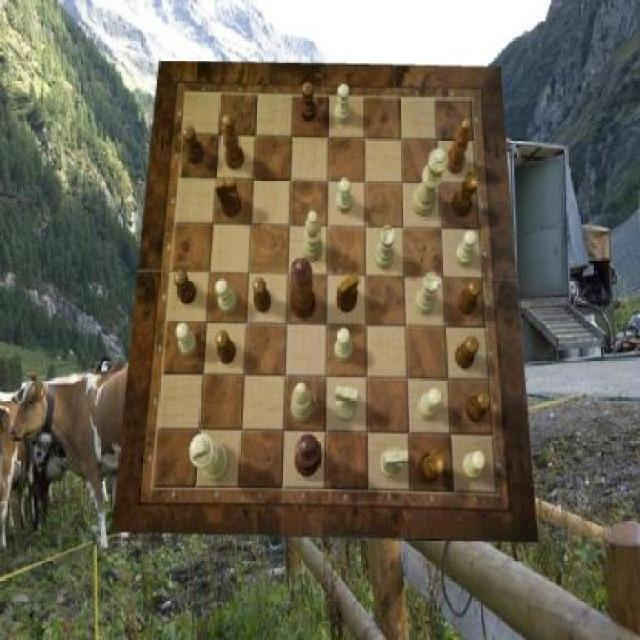bishop: (446, 119, 471, 174), (223, 115, 246, 170)
black-bishop: (296, 434, 322, 476)
black-king: (214, 177, 241, 218), (337, 274, 360, 314)
black-knight: (458, 280, 482, 316), (183, 126, 204, 165), (456, 337, 480, 371), (174, 269, 197, 304), (466, 391, 491, 422), (217, 330, 237, 364), (252, 279, 272, 313), (300, 83, 316, 123)
black-pawn: (291, 257, 317, 319)
black-queen: (451, 172, 478, 218), (417, 449, 445, 484)
black-rook: (303, 211, 323, 263), (291, 383, 313, 423)
white-bishop: (190, 434, 232, 481)
white-king: (378, 446, 408, 479), (337, 385, 360, 422)
white-knight: (455, 229, 478, 267), (418, 388, 442, 420), (216, 279, 237, 313), (177, 322, 197, 356), (336, 83, 352, 125), (463, 451, 486, 478), (335, 328, 353, 362), (337, 179, 354, 213)
white-pawn: (412, 149, 450, 217)
white-queen: (415, 272, 440, 315), (374, 225, 394, 270)
